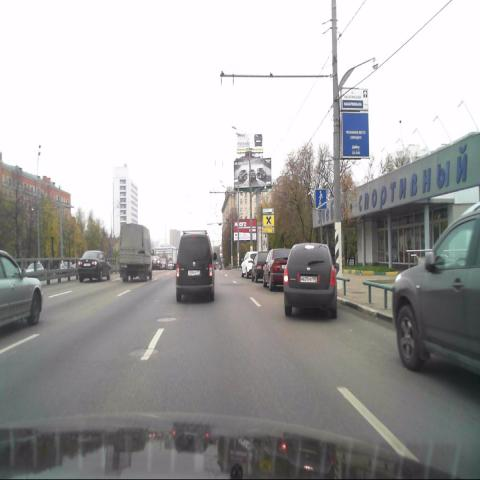6_6: (315, 189, 327, 210)
